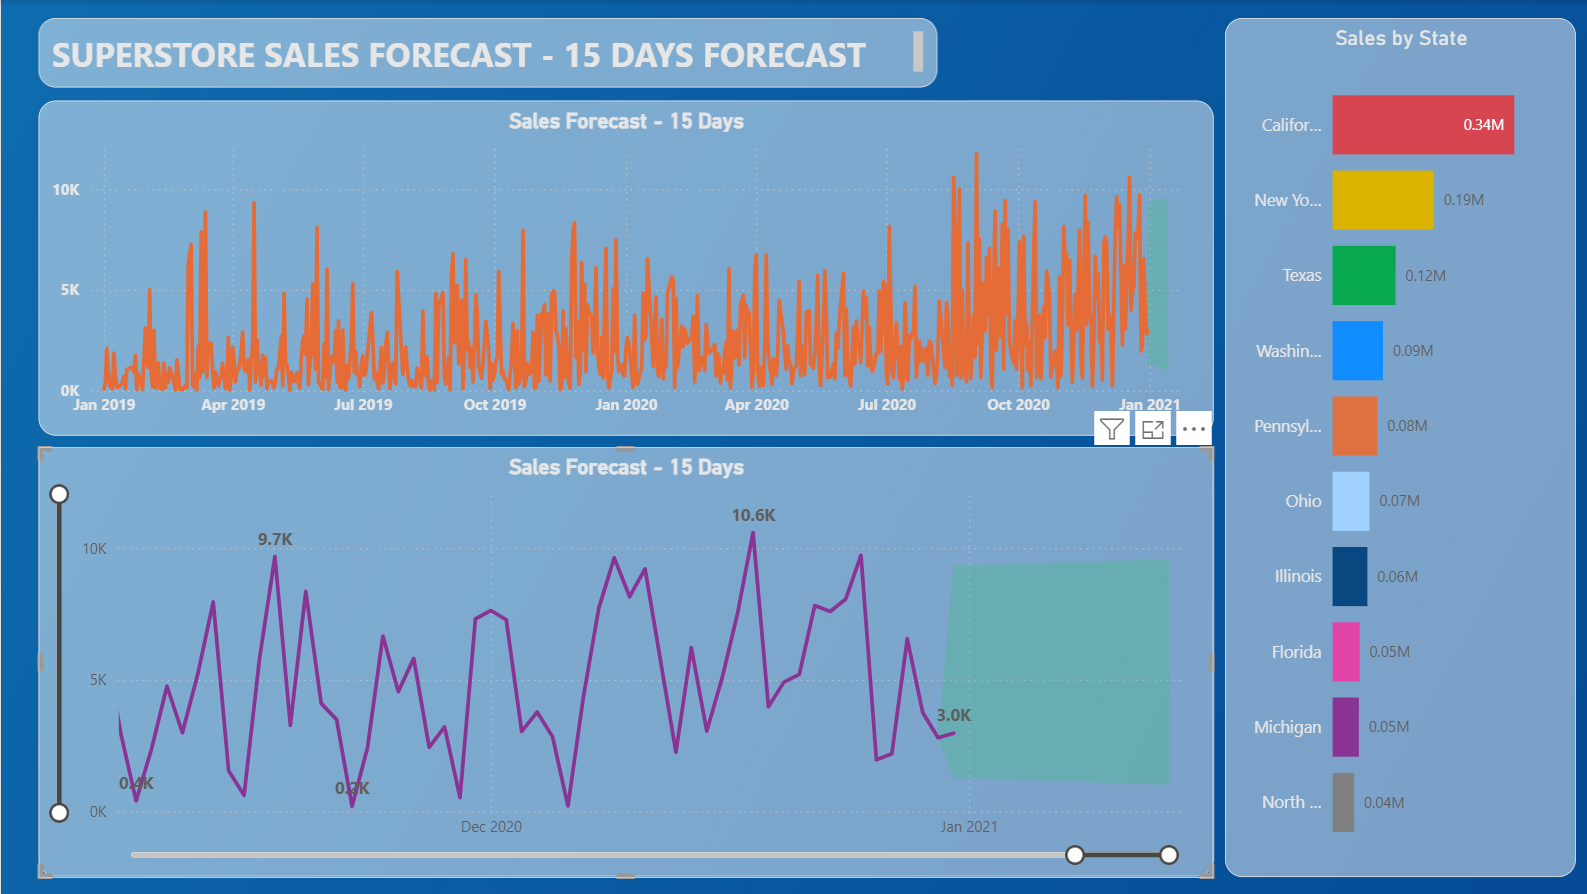

The page's visual inventory and layout, read from the dashboard file:
{"tool":"powerbi","page":{"name":"Page 2","canvas":[1280,720],"ordinal":1},"visuals":[{"type":"lineChart","title":" Sales Forecast  - 15 Days ","fields":{"Y":["Sum(SuperStore_Sales_Dataset.Sales)"],"Category":["SuperStore_Sales_Dataset.Order Date"]},"box":[30.2,360.5,946.4,346.1],"z":0},{"type":"lineChart","title":" Sales Forecast  - 15 Days","fields":{"Y":["Sum(SuperStore_Sales_Dataset.Sales)"],"Category":["SuperStore_Sales_Dataset.Order Date"]},"box":[30.2,80.4,946.4,270],"z":1000},{"type":"clusteredBarChart","title":" Sales by State","fields":{"Y":["Sum(SuperStore_Sales_Dataset.Sales)"],"Category":["SuperStore_Sales_Dataset.State"]},"box":[986.6,14.4,282.9,692.2],"z":2000},{"type":"textbox","box":[30.2,14.4,723.8,56],"z":3000}]}

Visuals, with their boxes in screenshot pixels (x1, y1, x2, y2), scaled from the page's 1280x720 canvas onto the 1587x894 screenshot:
" Sales Forecast  - 15 Days " lineChart: detection(37, 448, 1211, 877)
" Sales Forecast  - 15 Days" lineChart: detection(37, 100, 1211, 435)
" Sales by State" clusteredBarChart: detection(1223, 18, 1574, 877)
textbox: detection(37, 18, 935, 87)
